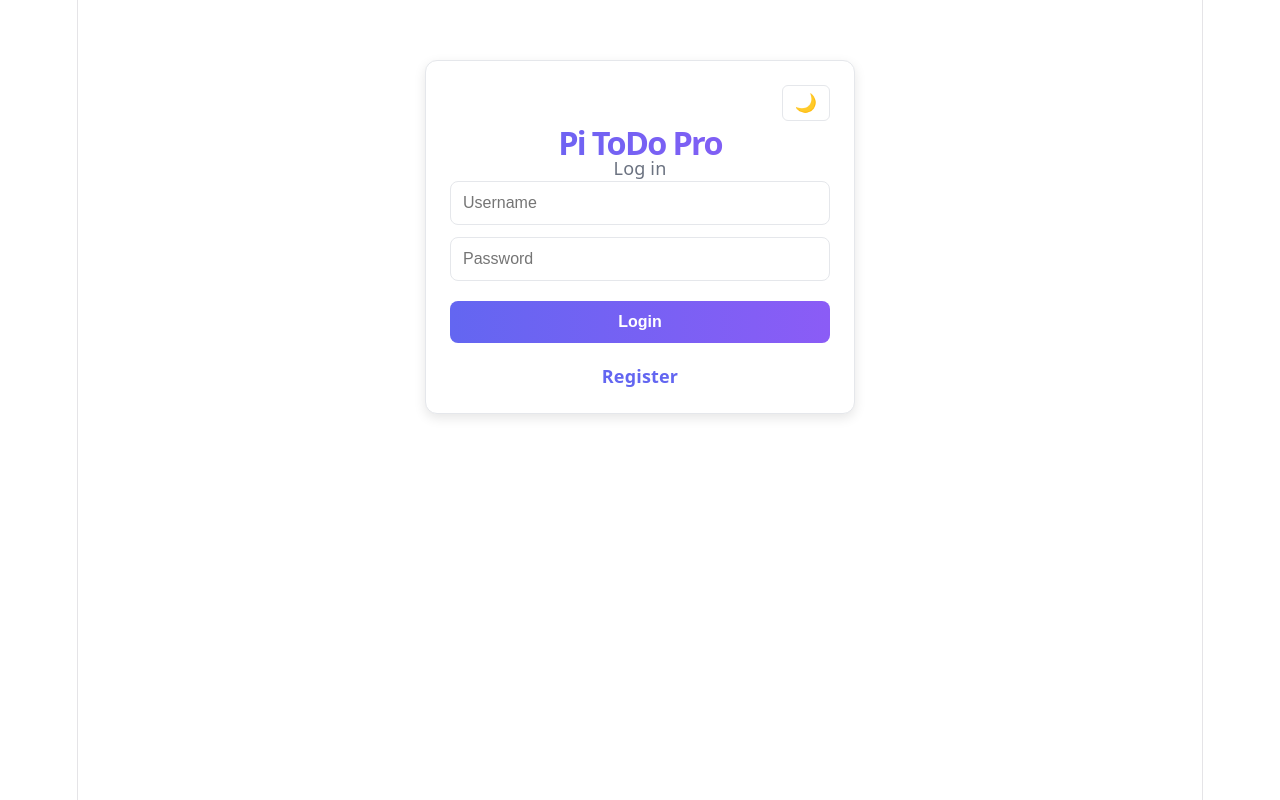
Login Page › shows error on failed login
Type "baduser" into the field with placeholder "Username" at (640, 203), box top-left (450, 181), bottom-right (830, 225)
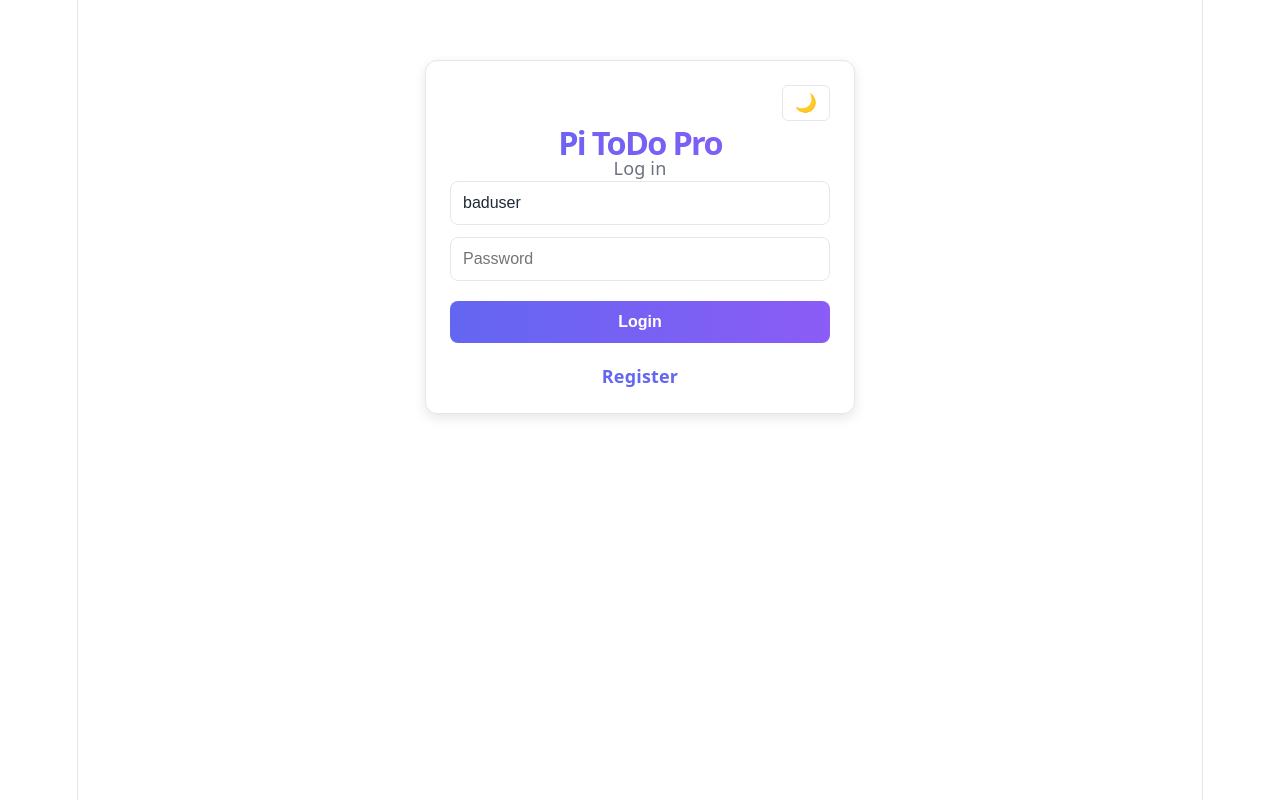
Type "badpass" into the password field with placeholder "Password" at (640, 259), box top-left (450, 237), bottom-right (830, 281)
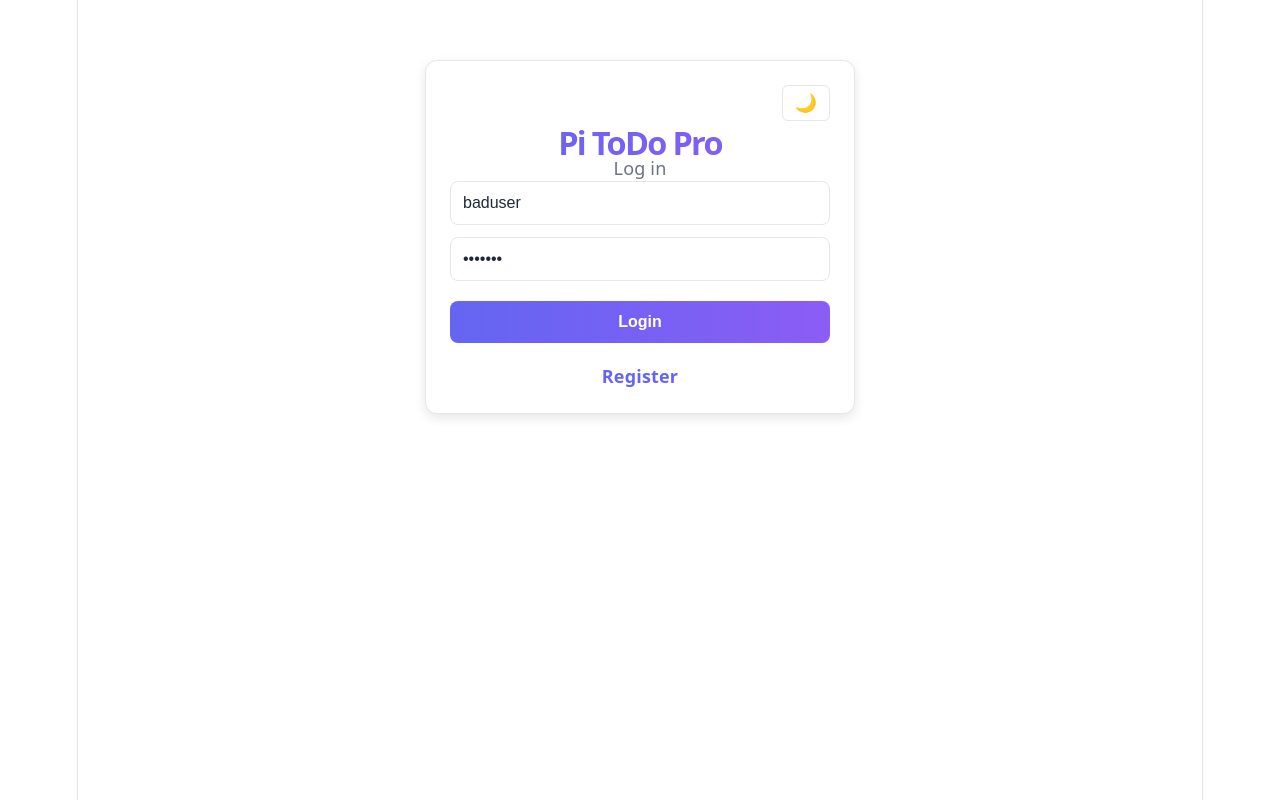
Click the button "Login" at (640, 322), box top-left (450, 301), bottom-right (830, 343)
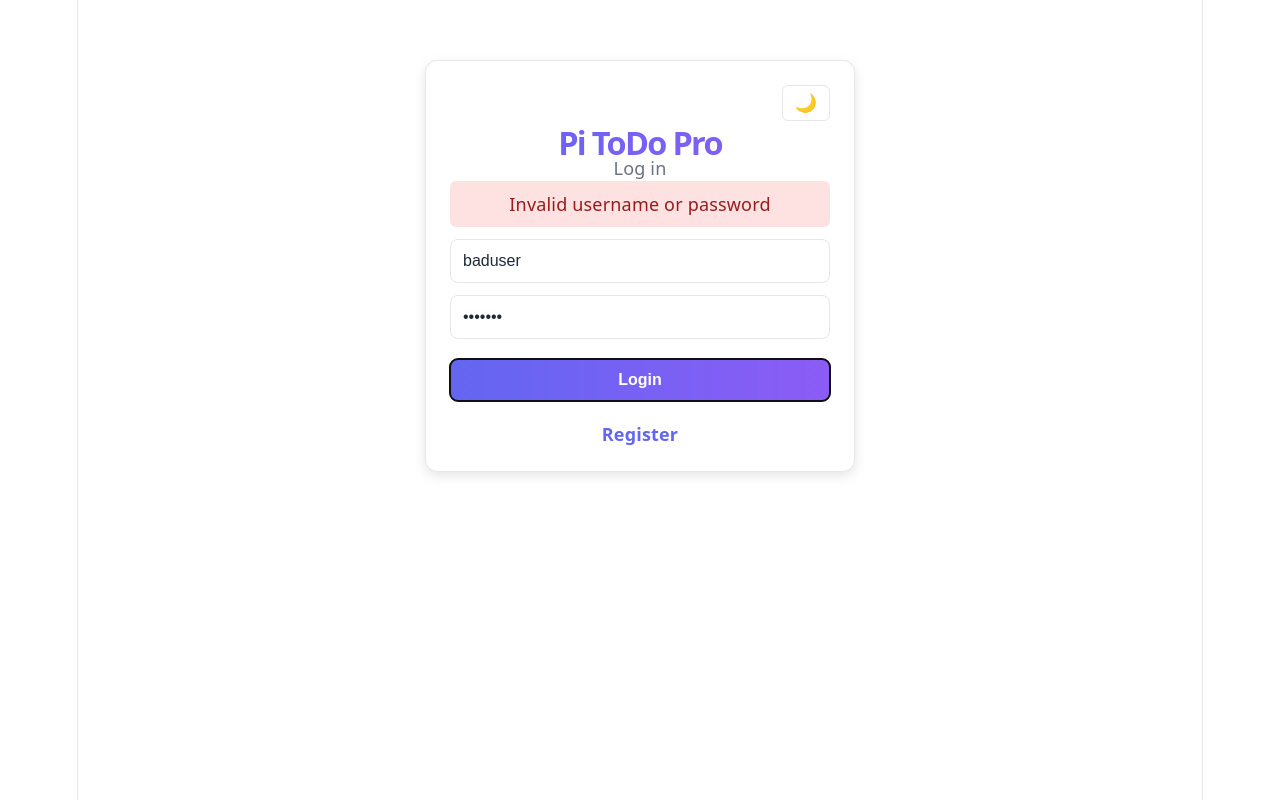
Expected: the text "Invalid username or password" is shown, top-left (450, 181), bottom-right (830, 227)
